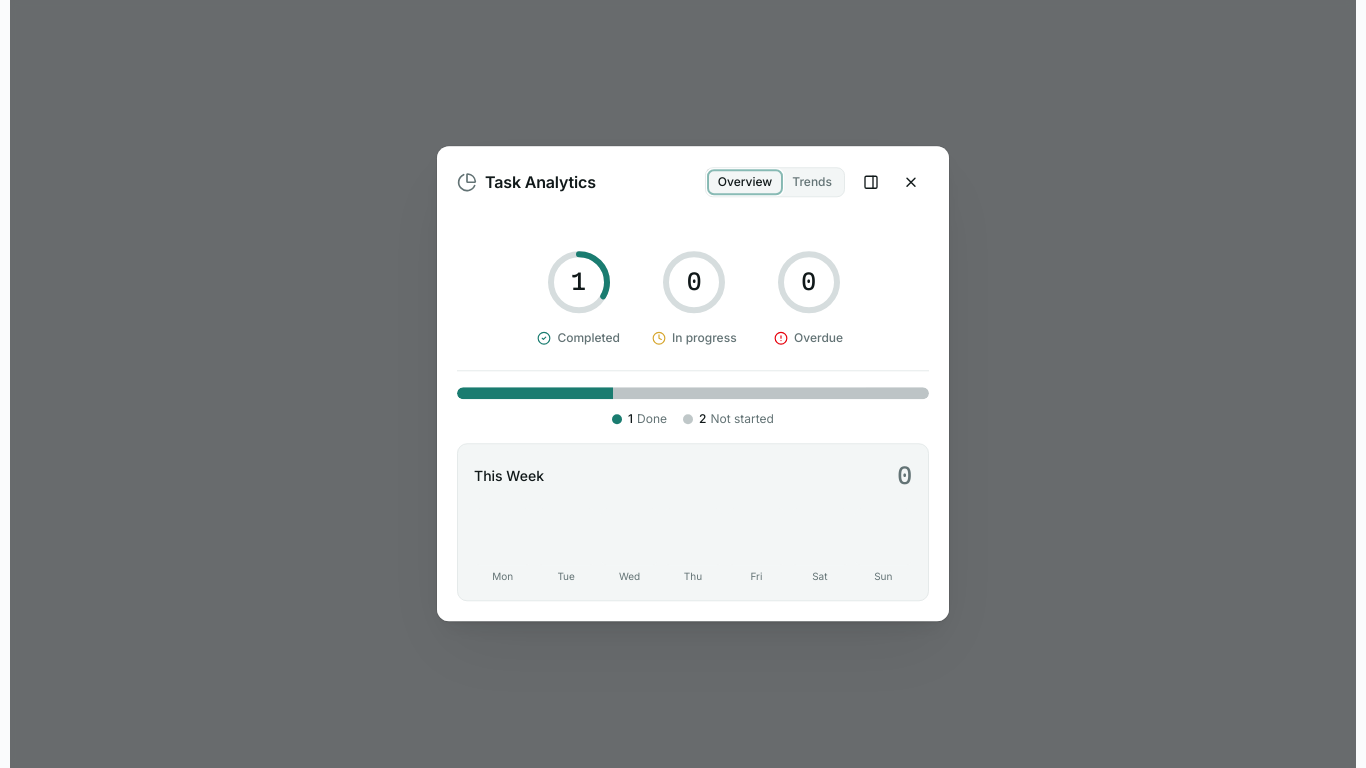
Test: TaskAnalyticsDialog › should render Trends tab content when selected
// Switch to Trends tab
Click the button "Trends". click: (812, 182)
box: [782,170,842,194]
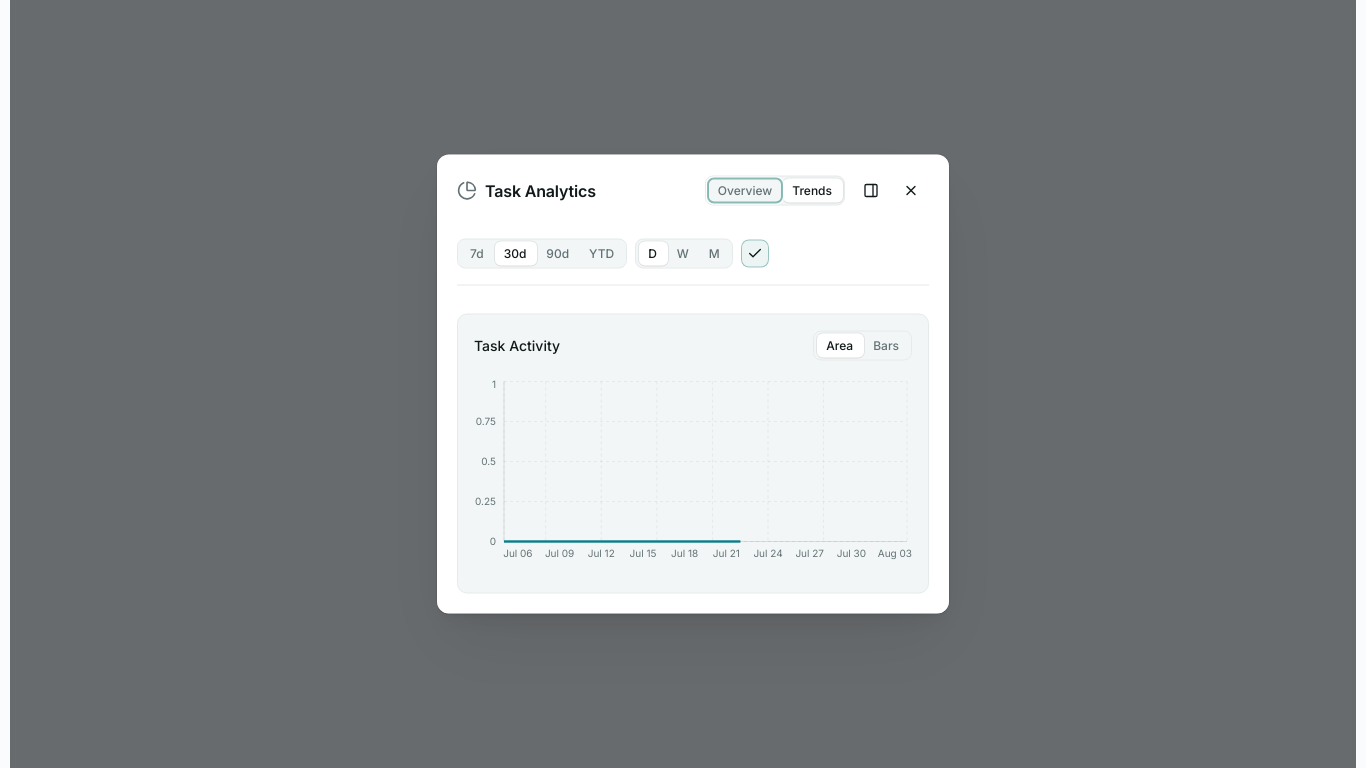
Check: the text "Task Activity" is shown, box [474,336,560,356]
Check: the button "Bars" is shown, box [863,334,909,358]
Check: the button "Area" is shown, box [816,334,863,358]
